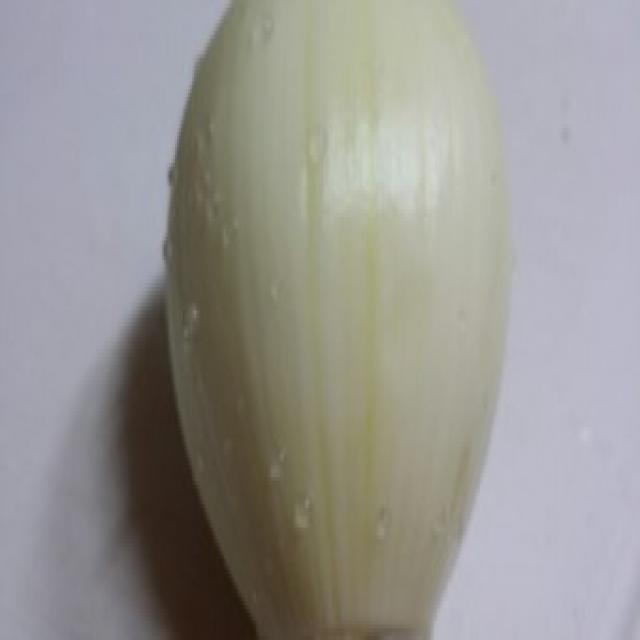onion: (156, 0, 527, 640)
